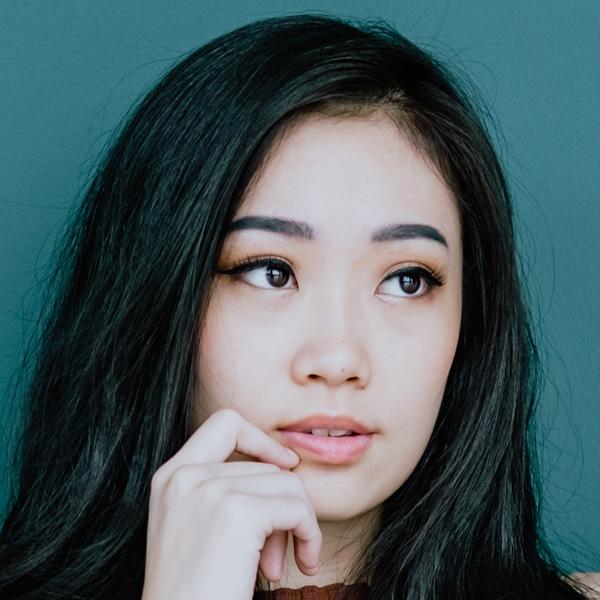Eyes: (215, 242, 307, 302), (368, 252, 449, 310)
